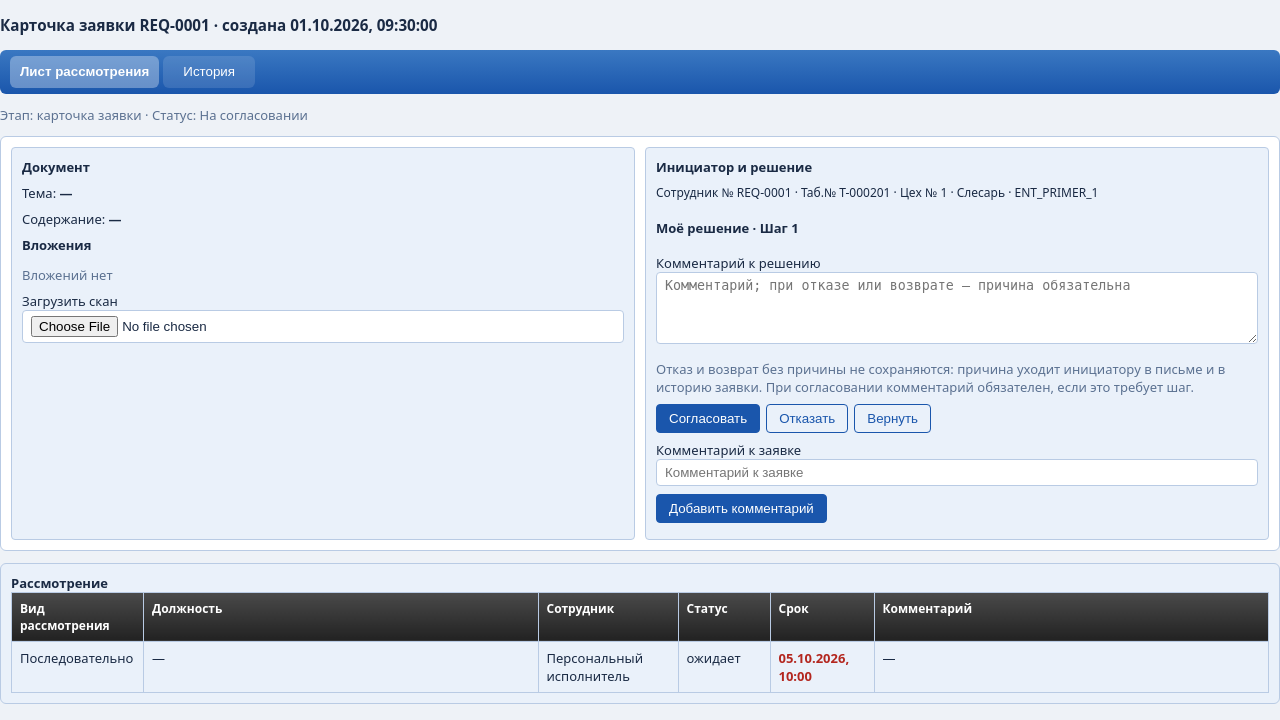
Test: RequestCard › шаг с require_comment требует комментарий и при согласовании
Click the button "Согласовать": coordinates (708, 418) [656,404,760,433]
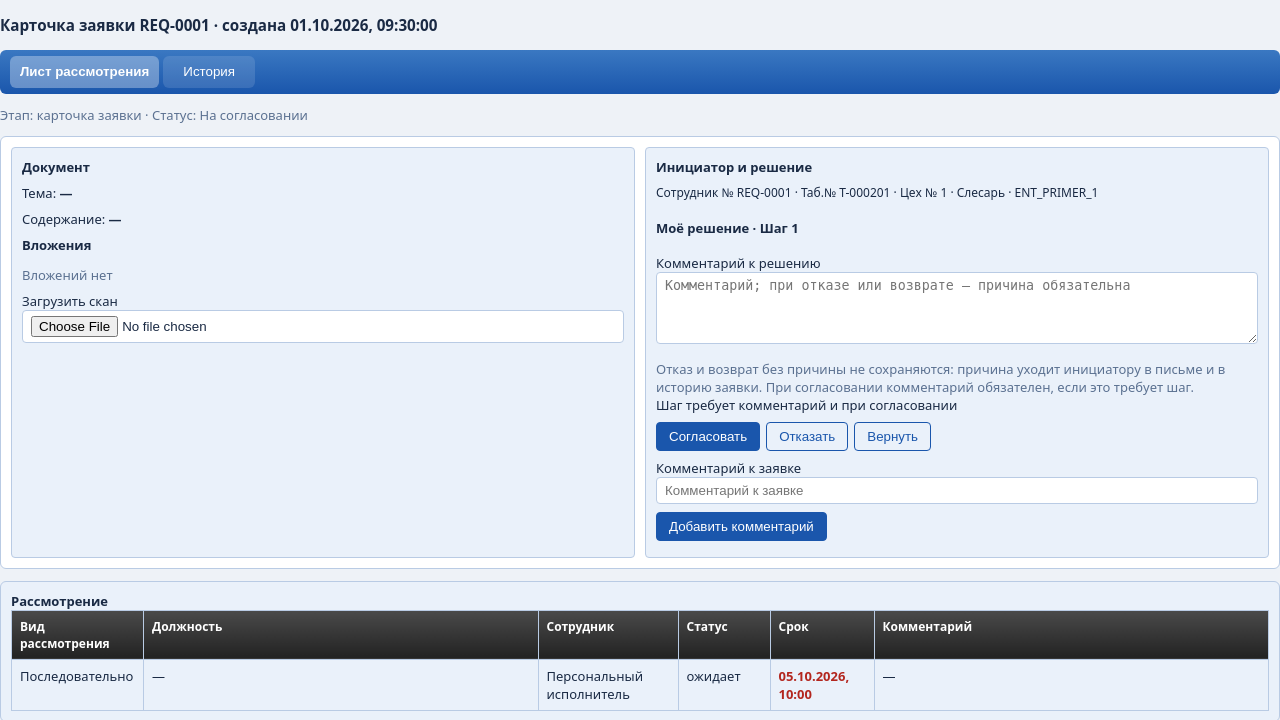
Check: the text "Шаг требует комментарий и при согласовании" is shown, box [656,396,957,414]
